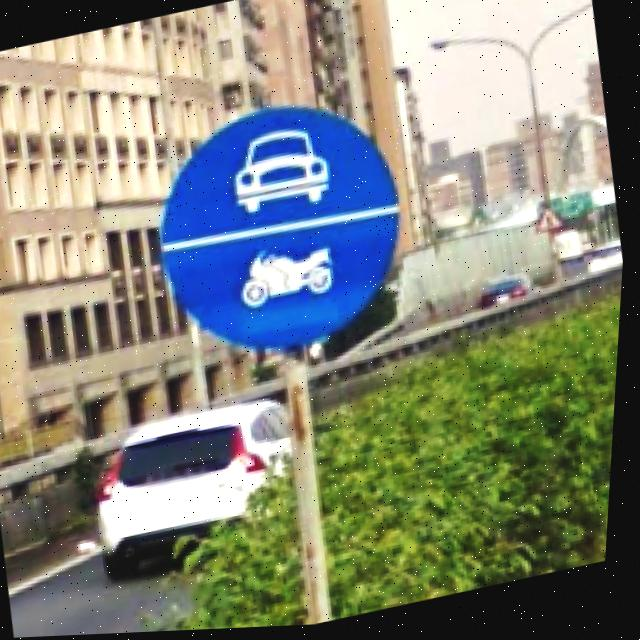carmotorcycle: (166, 109, 401, 350)
